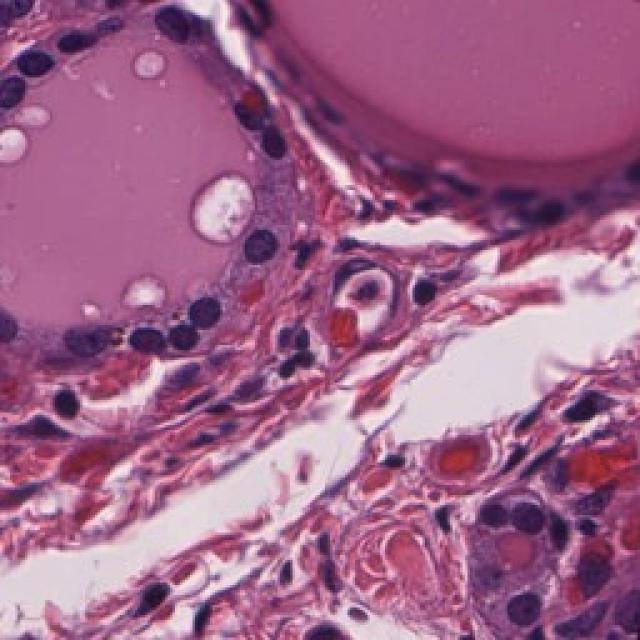normal: (37, 285, 115, 374), (119, 289, 174, 384), (484, 572, 558, 640), (243, 100, 295, 196), (493, 482, 562, 554), (5, 18, 72, 90), (138, 0, 218, 60), (226, 208, 280, 279), (175, 285, 226, 339)
